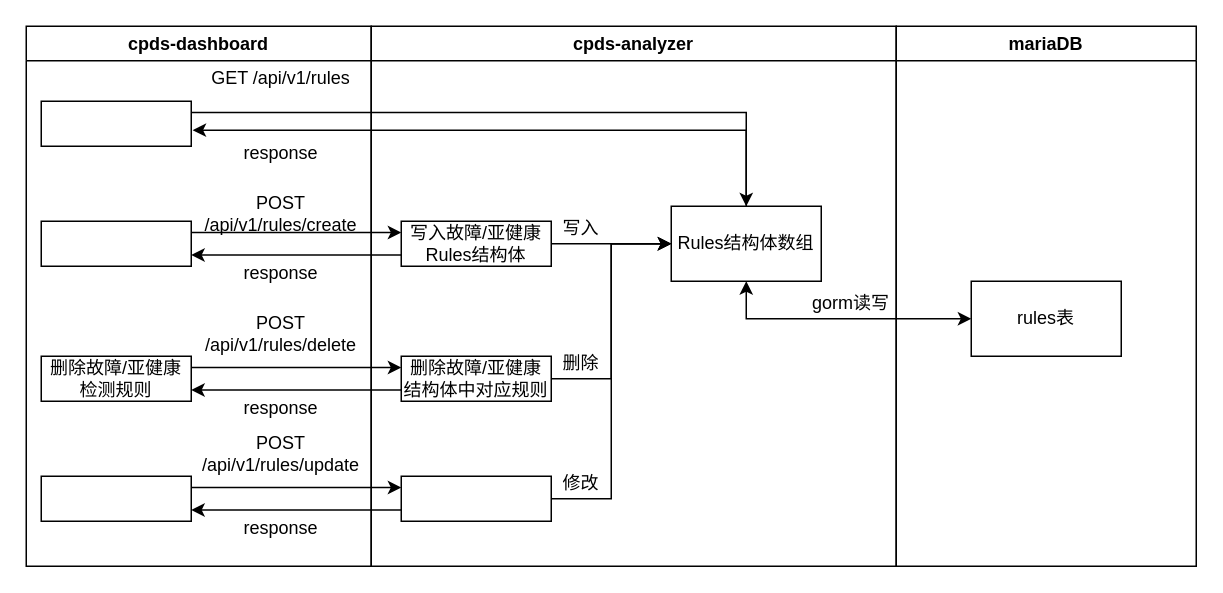
Image size: 1223x593. Some labels were removed from this diagram. Each missing label, with the centre of its shape:
修改故障/亚健康Rules结构体: the point at 475,498
修改故障/亚健康检测规则: the point at 115,498
增加故障/亚健康检测规则: the point at 115,243
获取故障/亚健康检测规则: the point at 115,123
